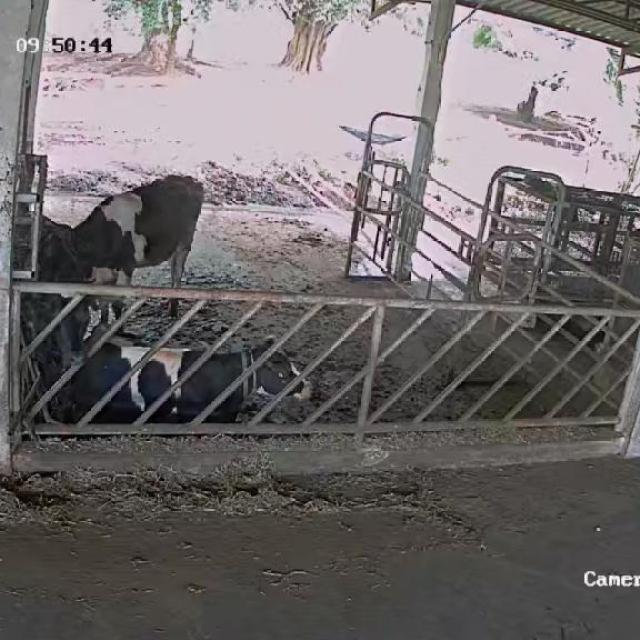drinking: (46, 172, 205, 327)
lying down: (64, 327, 313, 435)
standing: (17, 206, 95, 391)
